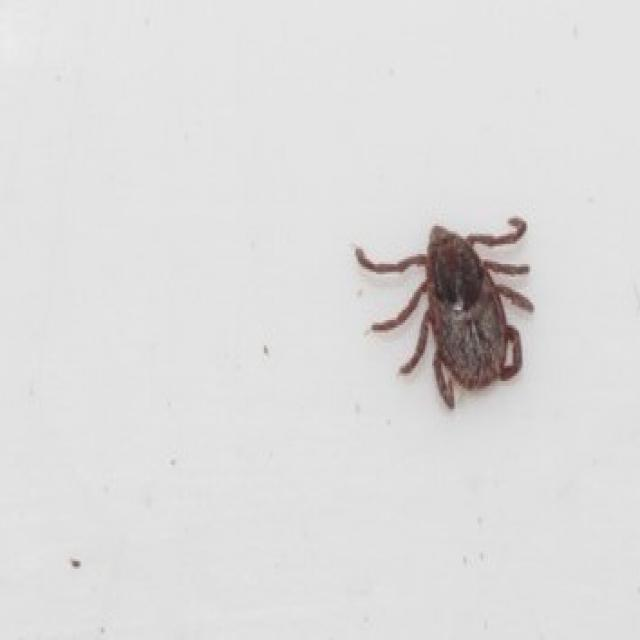Rhipicephalus Sanguineus-F: (353, 216, 535, 414)
